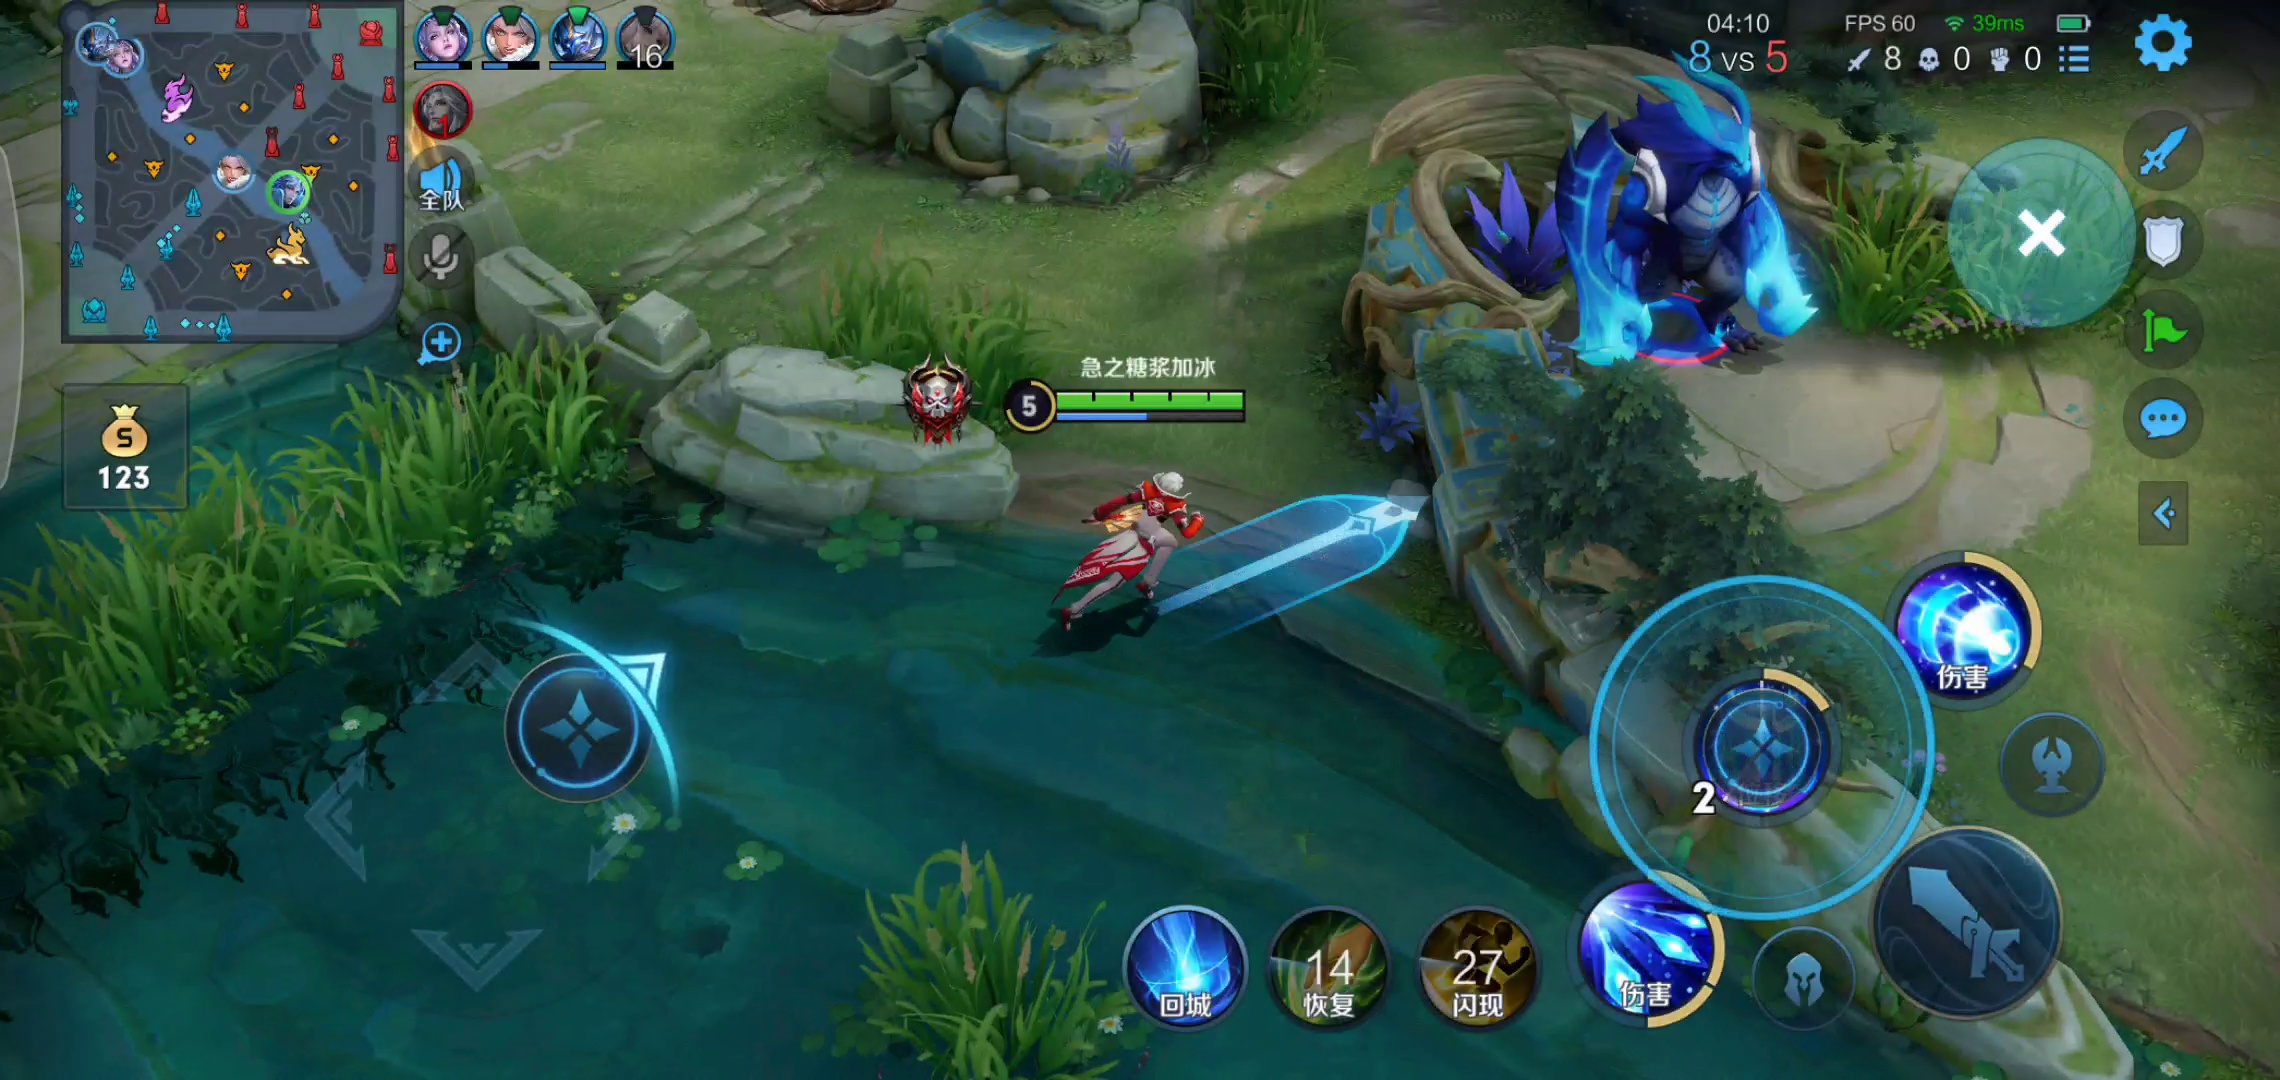buff: (1489, 67, 1826, 410)
grass: (10, 365, 683, 823), (814, 847, 1160, 1080), (1844, 161, 2169, 390), (807, 243, 1064, 424), (1191, 1, 1352, 131)
hero: (1019, 446, 1219, 648)
